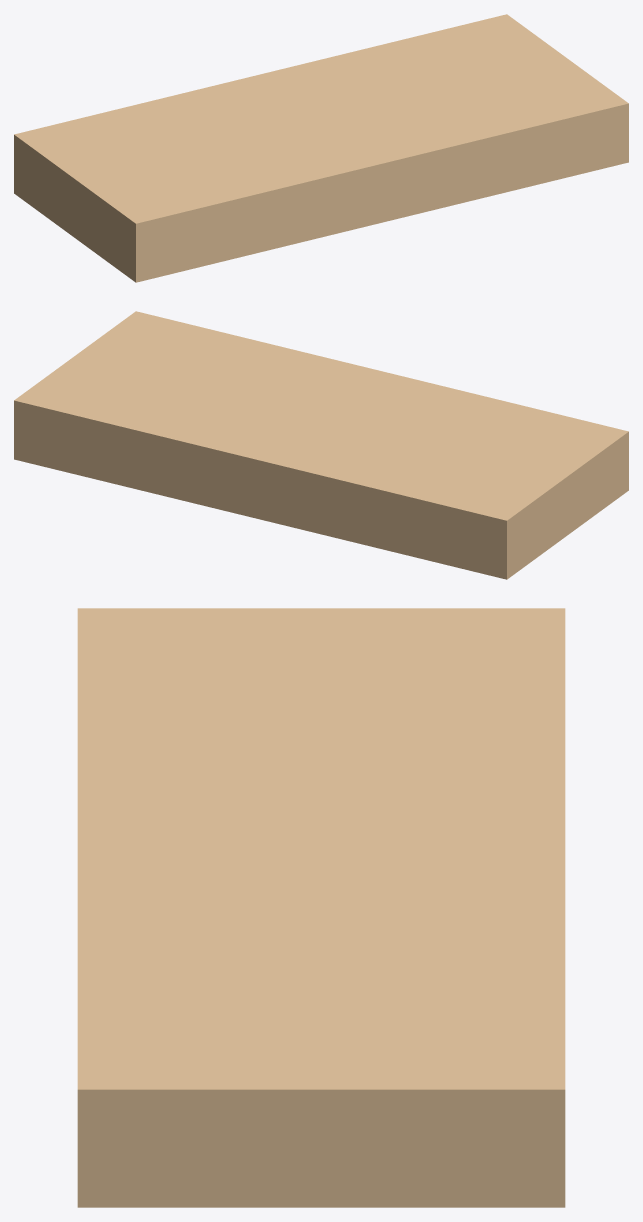
Rendered from WoodenBoard.fbx.
The picture shows the model from 3 angles, top to bottom: view 1: azimuth 30°, elevation 25°; view 2: azimuth 150°, elevation 25°; view 3: azimuth 270°, elevation 25°; orthographic projection. The views are drawn at different scales.
Visible parts, largest first — view 1: Segment_3, Segment_1, Segment_5, Segment_7, Segment_2, Segment_4, Segment_6, Segment_8; view 2: Segment_4, Segment_2, Segment_6, Segment_8, Segment_1, Segment_3, Segment_5, Segment_7; view 3: Segment_8, Segment_7, Segment_4, Segment_3, Segment_6, Segment_2, Segment_5, Segment_1.
Boxes of the visible parts, left/top/right/bottom form: Segment_3: left=187, top=119, right=397, bottom=256; Segment_1: left=80, top=157, right=242, bottom=282; Segment_5: left=342, top=90, right=517, bottom=218; Segment_7: left=462, top=62, right=628, bottom=189; Segment_2: left=14, top=108, right=186, bottom=241; Segment_4: left=121, top=70, right=341, bottom=156; Segment_6: left=276, top=41, right=461, bottom=118; Segment_8: left=396, top=14, right=572, bottom=89; Segment_4: left=245, top=408, right=465, bottom=553; Segment_2: left=400, top=446, right=573, bottom=579; Segment_6: left=125, top=379, right=310, bottom=515; Segment_8: left=14, top=352, right=191, bottom=486; Segment_1: left=466, top=405, right=628, bottom=530; Segment_3: left=311, top=367, right=521, bottom=445; Segment_5: left=192, top=338, right=366, bottom=408; Segment_7: left=81, top=311, right=247, bottom=379; Segment_8: left=299, top=980, right=565, bottom=1207; Segment_7: left=77, top=980, right=300, bottom=1207; Segment_4: left=300, top=713, right=565, bottom=864; Segment_3: left=77, top=712, right=300, bottom=863; Segment_6: left=300, top=864, right=565, bottom=980; Segment_2: left=300, top=608, right=565, bottom=712; Segment_5: left=77, top=864, right=300, bottom=980; Segment_1: left=77, top=608, right=300, bottom=712.
Bounding box in the file's own units: 7 × 0.8 × 3.
